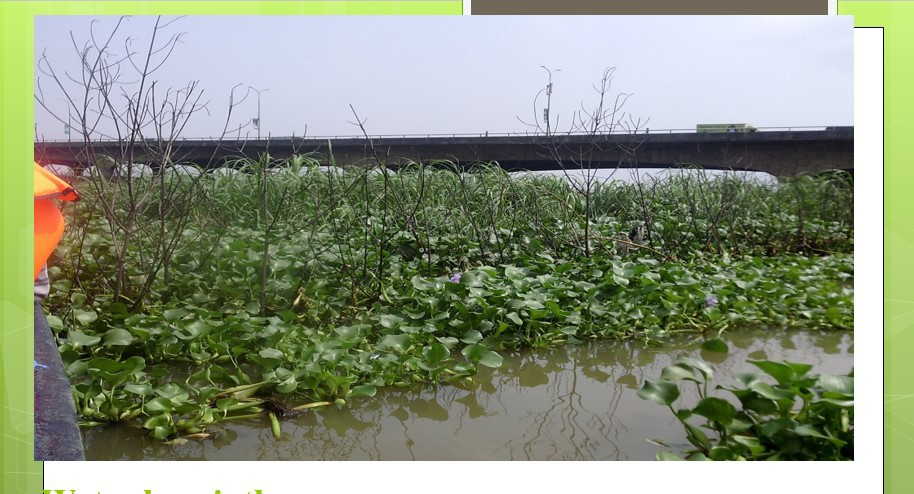water_hyacinth: (65, 269, 469, 439)
